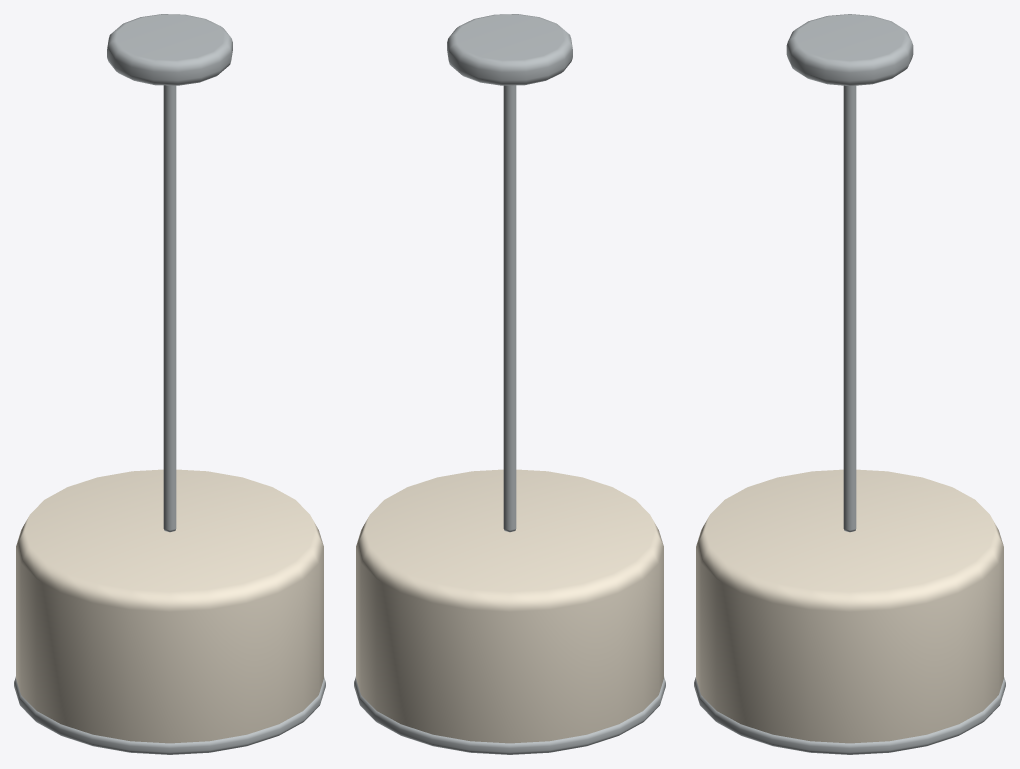
File: drum_shade_pendant.glb
3 renders of one model, left to right at view 1: azimuth 30°, elevation 25°; view 2: azimuth 150°, elevation 25°; view 3: azimuth 270°, elevation 25°, orthographic.
Visible parts, largest first — view 1: drum_shade_pendant_mesh; view 2: drum_shade_pendant_mesh; view 3: drum_shade_pendant_mesh.
Part boxes in pixels (x1,y1,x2,y2): drum_shade_pendant_mesh: (14, 14, 325, 754); drum_shade_pendant_mesh: (354, 14, 665, 754); drum_shade_pendant_mesh: (694, 14, 1005, 754).
Bounding box in the file's own units: 0.344 × 0.795 × 0.344.
